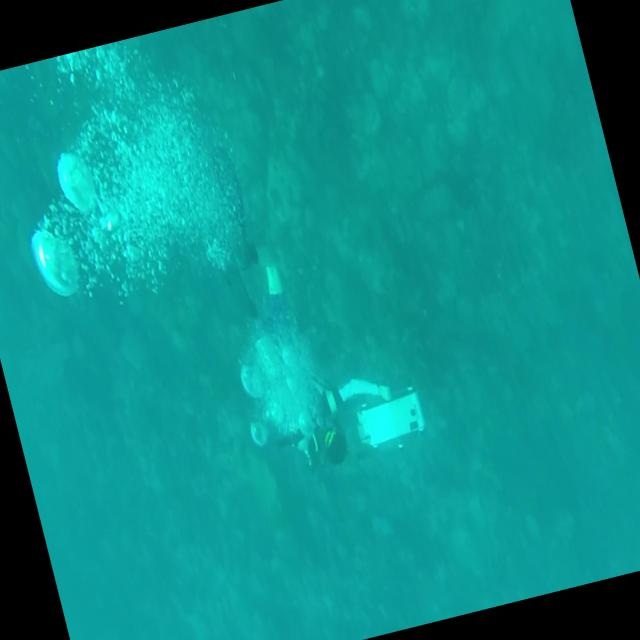human: (180, 126, 406, 488)
